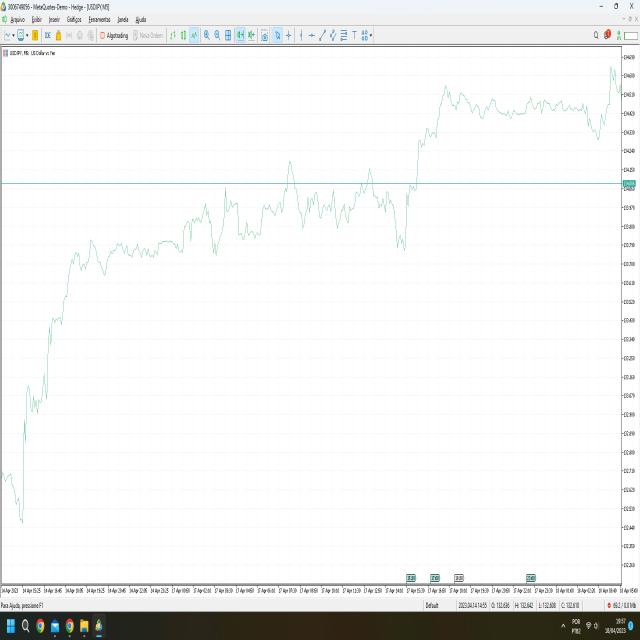bandeira_alta: (17, 370, 48, 516), (411, 119, 438, 197)
fundo_duplo: (389, 206, 419, 260)
